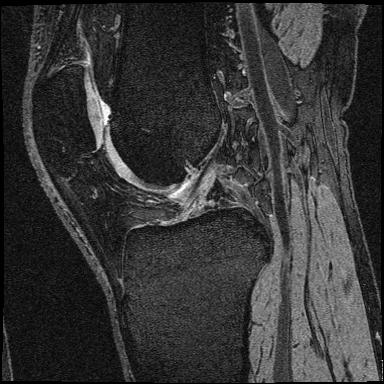SagKneeJointArea: (31, 63, 272, 292)
